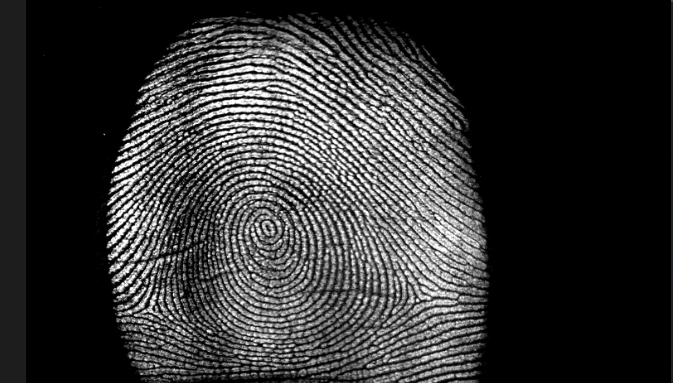nucelo: (245, 210, 285, 245)
verticilo: (400, 281, 431, 309), (137, 295, 167, 320)
